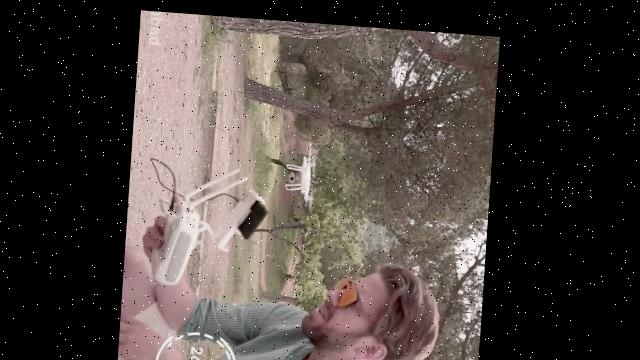drone: (283, 141, 321, 211)
